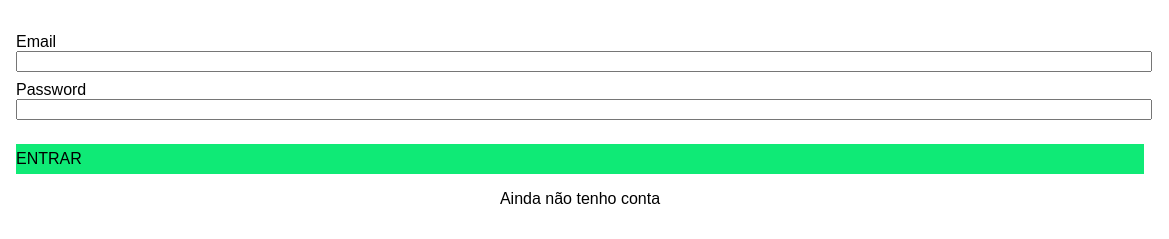
Test: Testing Login Page › Testing axios catch in login button
Type "lipe@lipe.com" into the field with test id "email-input" at (584, 61), box [16,50,1152,72]
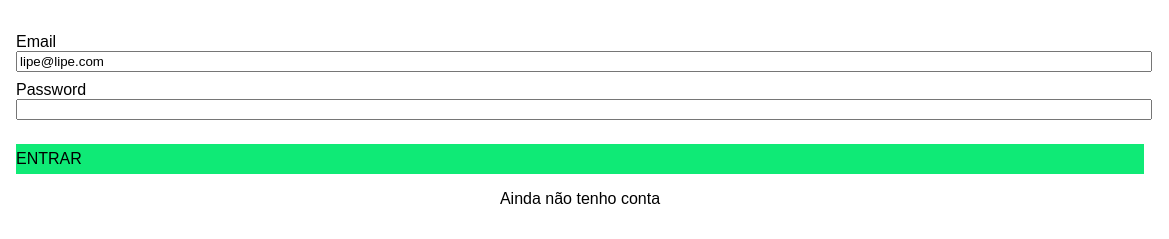
Type "123456" into the password field with test id "password-input" at (584, 109), box [16,98,1152,120]
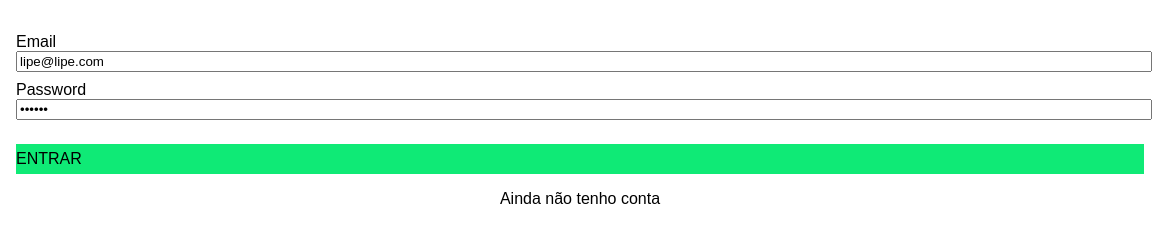
Click the button with test id "signin-btn" at (49, 158), box [16,144,1144,174]
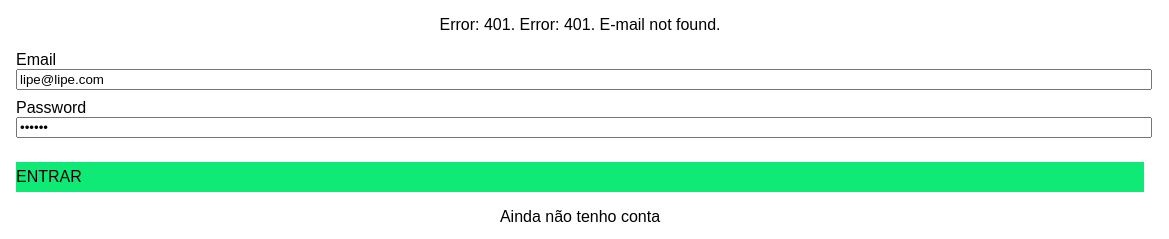
Check: the text "Error: 401. Error: 401. E-mail not found." is shown, box [440,16,720,34]
